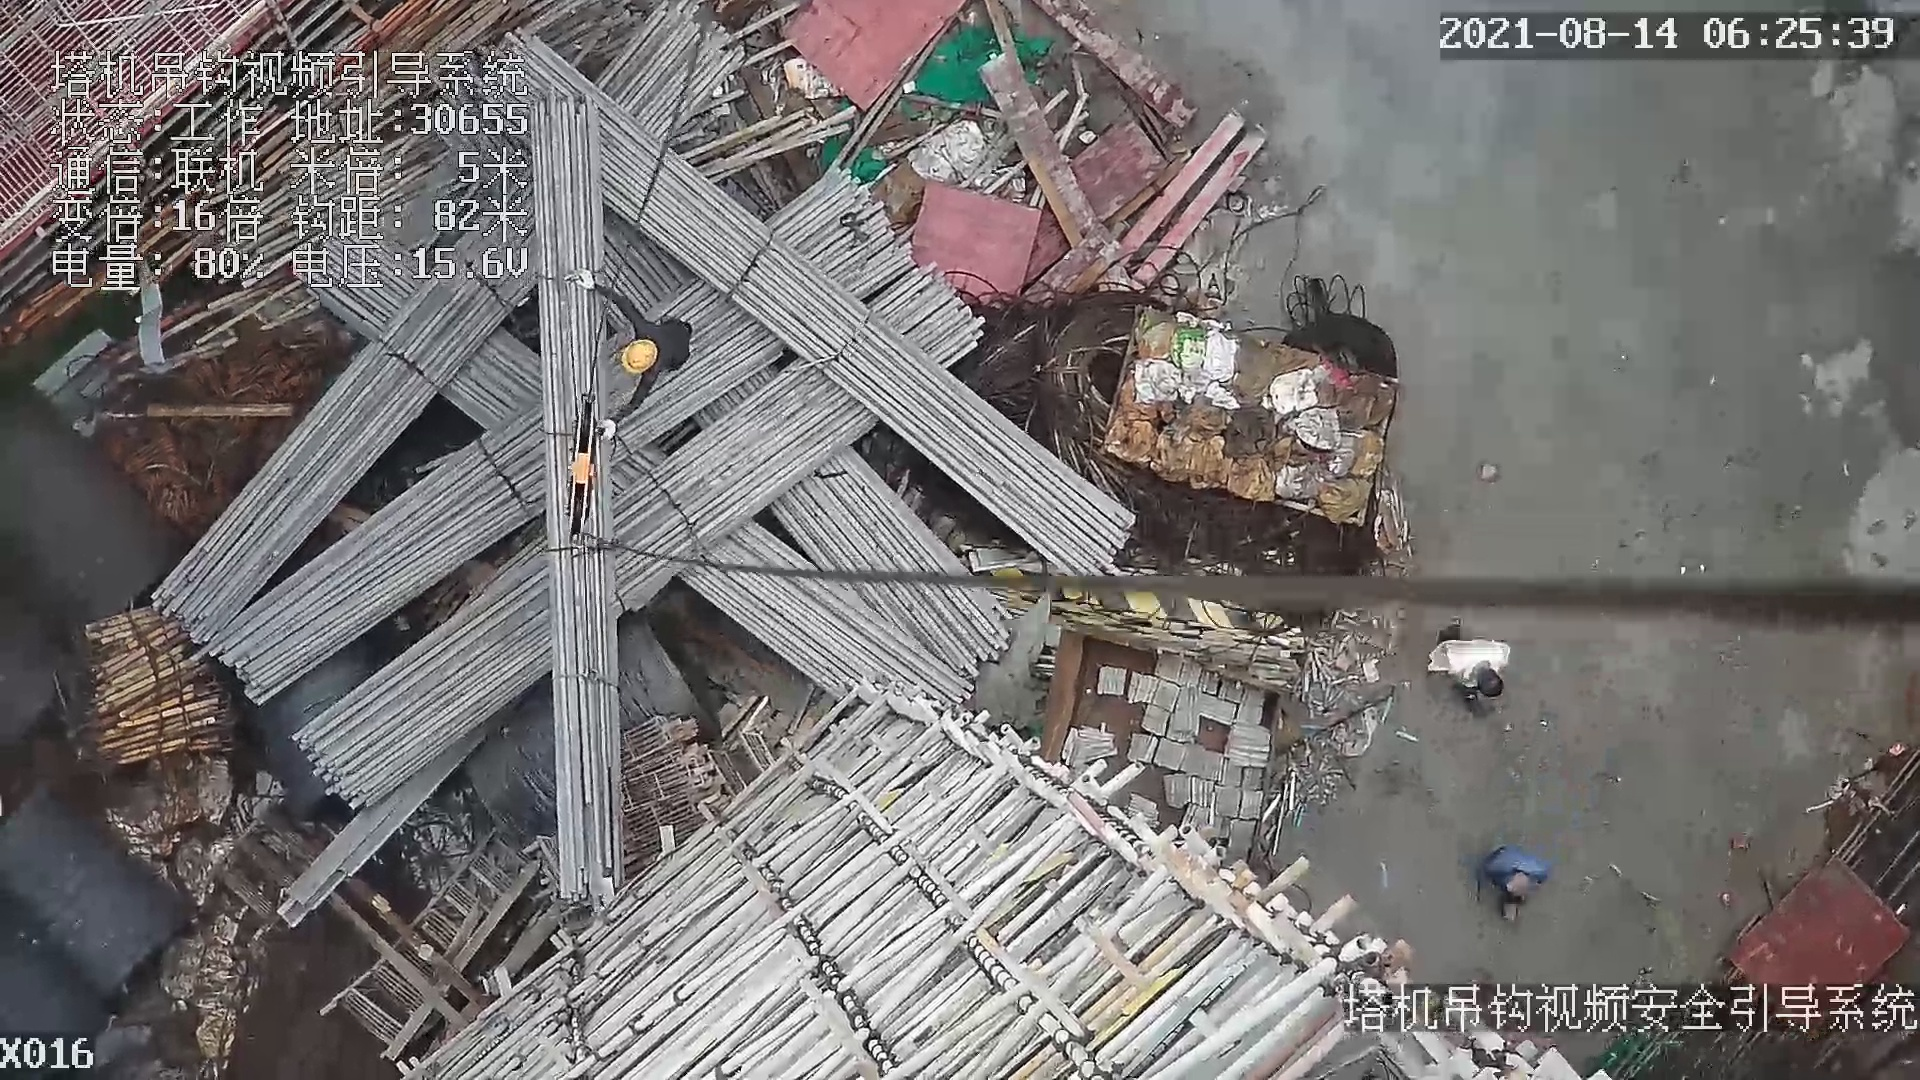helmet: (616, 333, 661, 380)
hook: (562, 378, 599, 553)
person: (585, 274, 705, 422), (1440, 626, 1512, 710), (1478, 850, 1550, 915)
